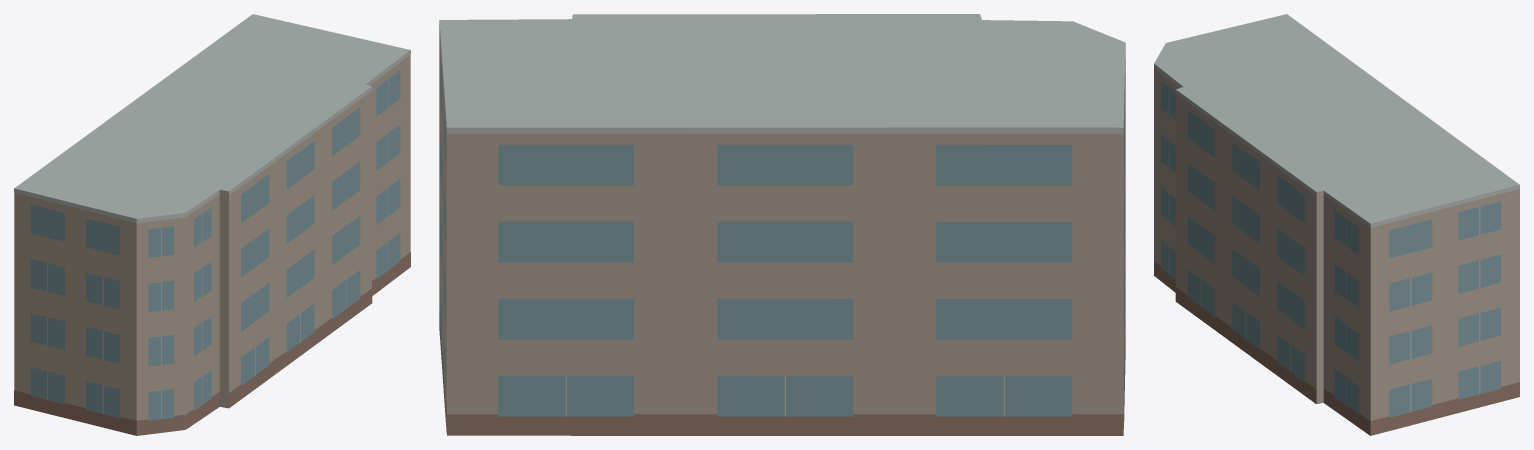
Rendered from survey-upis-32952436.glb.
3 renders of one model, left to right at view 1: azimuth 30°, elevation 25°; view 2: azimuth 150°, elevation 25°; view 3: azimuth 270°, elevation 25°, orthographic. The views are drawn at different scales.
Visible parts, largest first — view 1: survey-upis-32952436.tmp; view 2: survey-upis-32952436.tmp; view 3: survey-upis-32952436.tmp.
Boxes of the visible parts, left/top/right/bottom form: survey-upis-32952436.tmp: left=14, top=14, right=410, bottom=435; survey-upis-32952436.tmp: left=439, top=14, right=1125, bottom=435; survey-upis-32952436.tmp: left=1154, top=14, right=1519, bottom=435.
Bounding box in the file's own units: 25.85 × 12.2 × 19.06.
